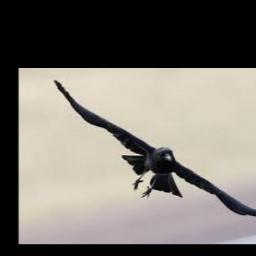Crow: (53, 78, 256, 220)
